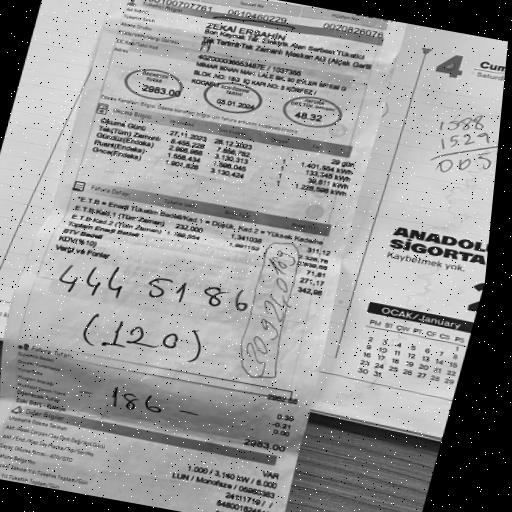electricity-bill: (0, 0, 405, 512)
